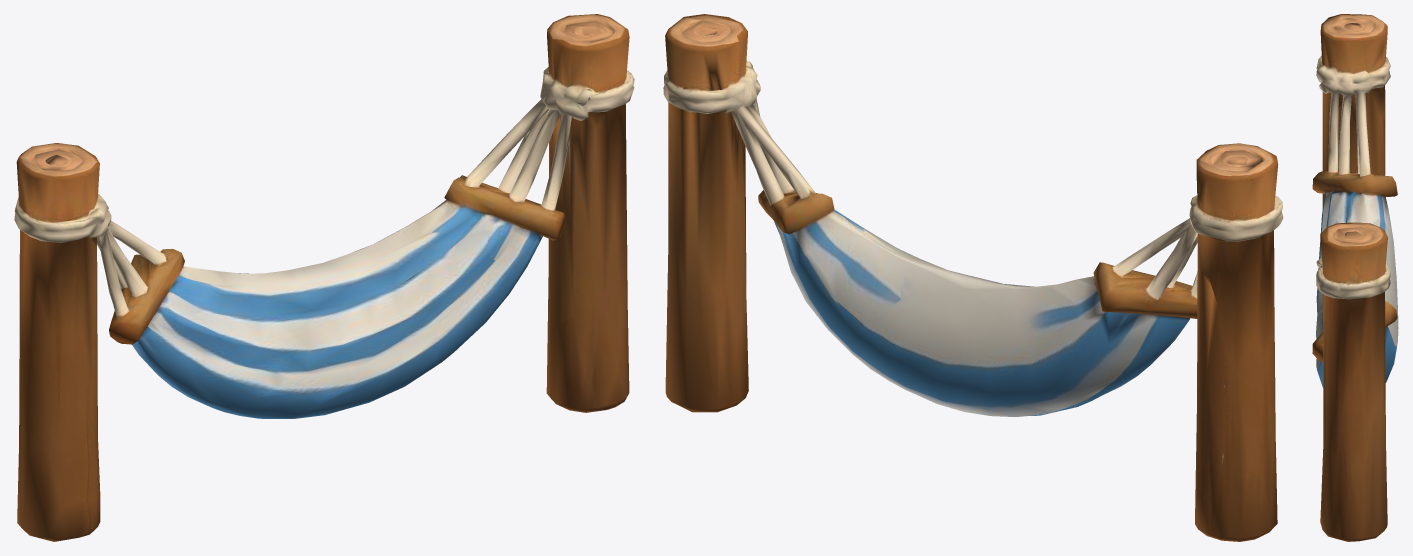
File: hammock.glb
The picture shows the model from 3 angles, left to right: view 1: azimuth 30°, elevation 25°; view 2: azimuth 150°, elevation 25°; view 3: azimuth 270°, elevation 25°; orthographic projection. The views are drawn at different scales.
Visible parts, largest first — view 1: model; view 2: model; view 3: model.
Boxes of the visible parts, x1=… form: model: x1=14, y1=14, x2=634, y2=541; model: x1=663, y1=14, x2=1283, y2=541; model: x1=1312, y1=14, x2=1398, y2=541.
Size of the model in its own units: 1.9 by 1.1 by 0.2907.
1 material, 1 textured.
